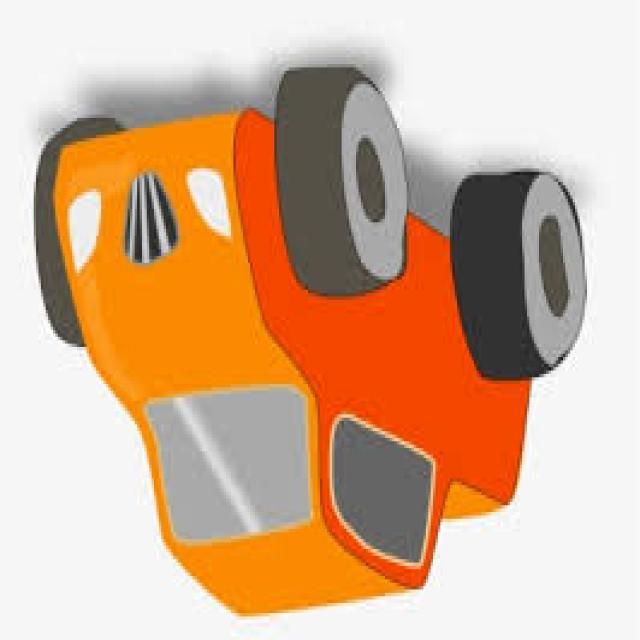Car: (31, 67, 587, 624)
